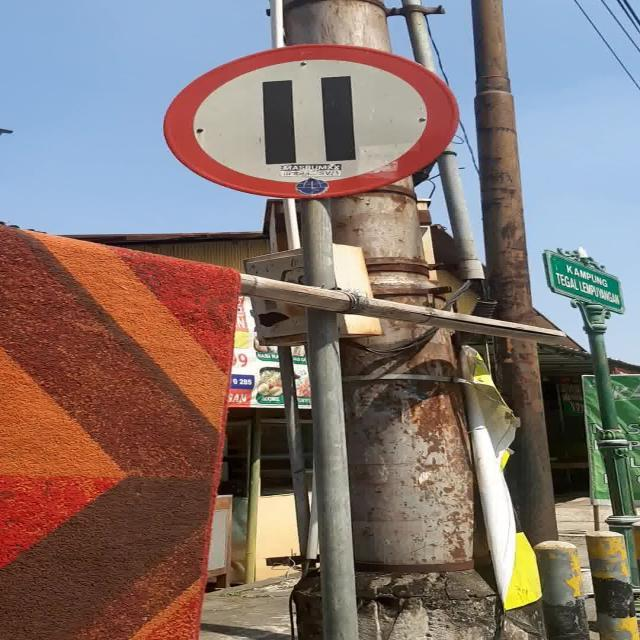Larangan Muatan - 10 ton: (163, 44, 460, 198)
